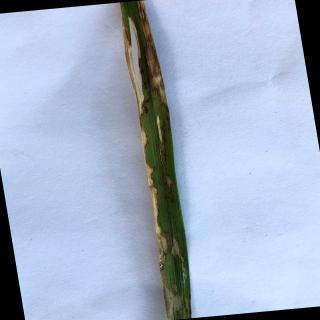Hawar-Daun: (136, 1, 170, 102), (144, 162, 170, 268), (120, 29, 146, 114), (164, 280, 190, 320), (154, 114, 167, 144), (172, 237, 185, 263), (140, 122, 148, 152)
